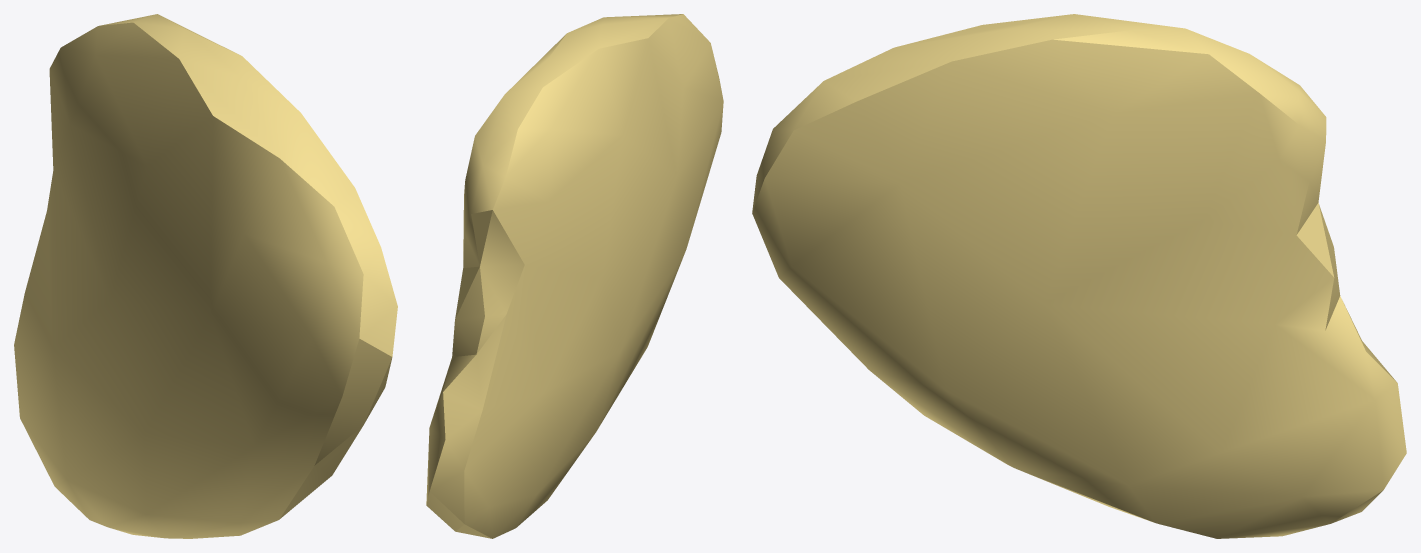
The model's file is fma72893_mm3058.glb.
3 renders of one model, left to right at view 1: azimuth 30°, elevation 25°; view 2: azimuth 150°, elevation 25°; view 3: azimuth 270°, elevation 25°, orthographic. The views are drawn at different scales.
Parts seen in each view (by area): view 1: FMA72893_MM3058; view 2: FMA72893_MM3058; view 3: FMA72893_MM3058.
Part boxes in pixels (x1,y1,x2,y2): FMA72893_MM3058: (14, 14, 397, 538); FMA72893_MM3058: (426, 14, 723, 538); FMA72893_MM3058: (752, 14, 1406, 538).
Size of the model in its own units: 0.000785 by 0.0035 by 0.00406.
